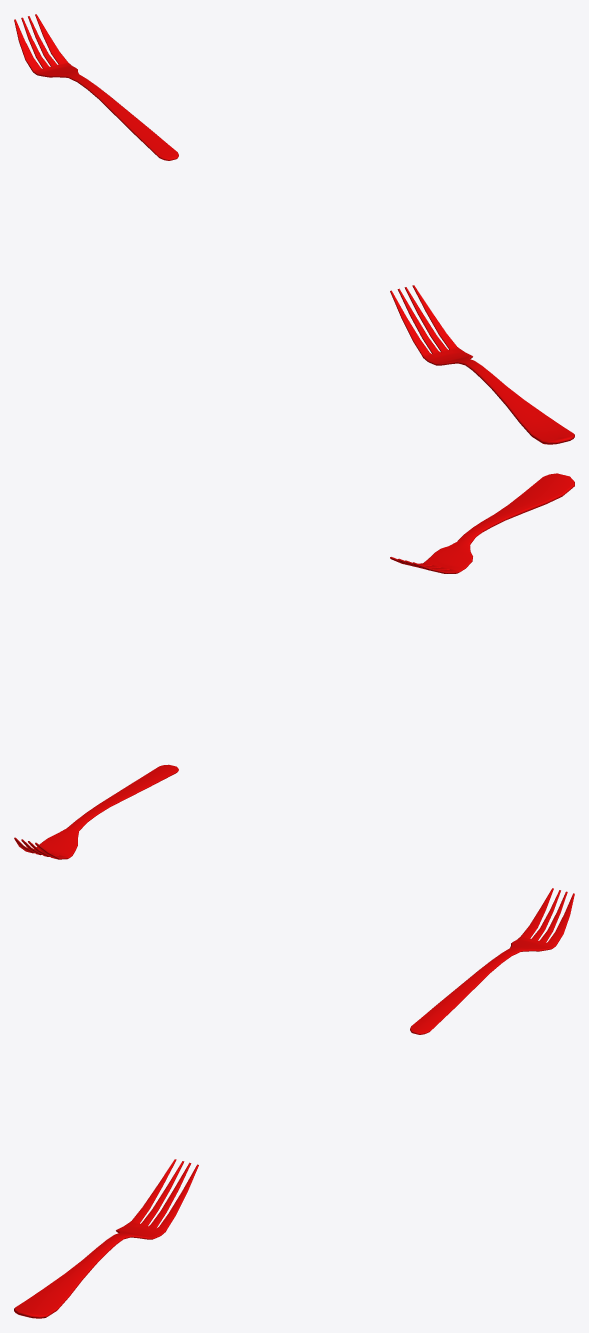
The model's file is thorkea_forks_grp.fbx.
The picture shows the model from 3 angles, top to bottom: view 1: azimuth 30°, elevation 25°; view 2: azimuth 150°, elevation 25°; view 3: azimuth 330°, elevation 25°; orthographic projection.
Parts seen in each view (by area): view 1: thorkea_fork_ai2_1, thorkea_fork_ai2_2; view 2: thorkea_fork_ai2_1, thorkea_fork_ai2_2; view 3: thorkea_fork_ai2_1, thorkea_fork_ai2_2.
Part boxes in pixels (x1,y1,x2,y2): thorkea_fork_ai2_1: (390,285,574,444); thorkea_fork_ai2_2: (14,14,178,160); thorkea_fork_ai2_1: (390,473,574,573); thorkea_fork_ai2_2: (14,764,178,859); thorkea_fork_ai2_1: (14,1159,198,1318); thorkea_fork_ai2_2: (410,888,574,1034).
Bounding box in the file's own units: 2.82 × 2.83 × 69.15.
